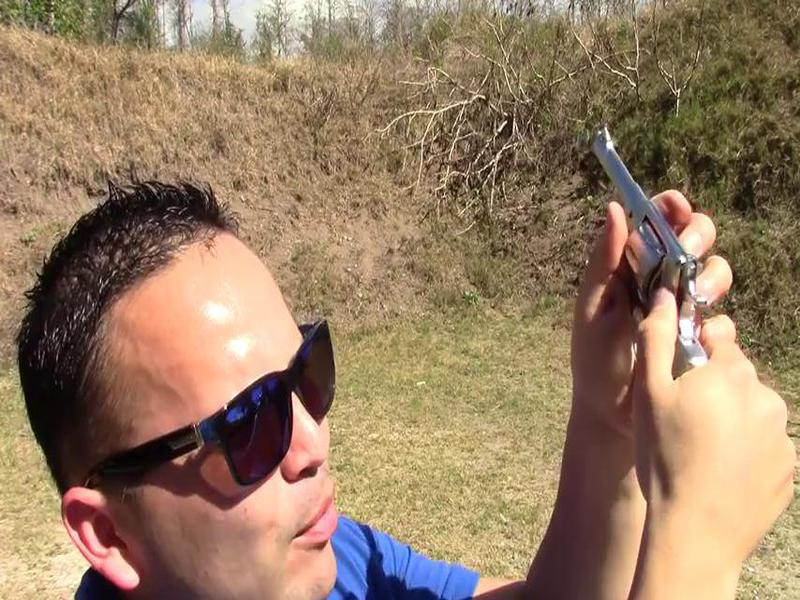Revolver: (562, 116, 747, 450)
